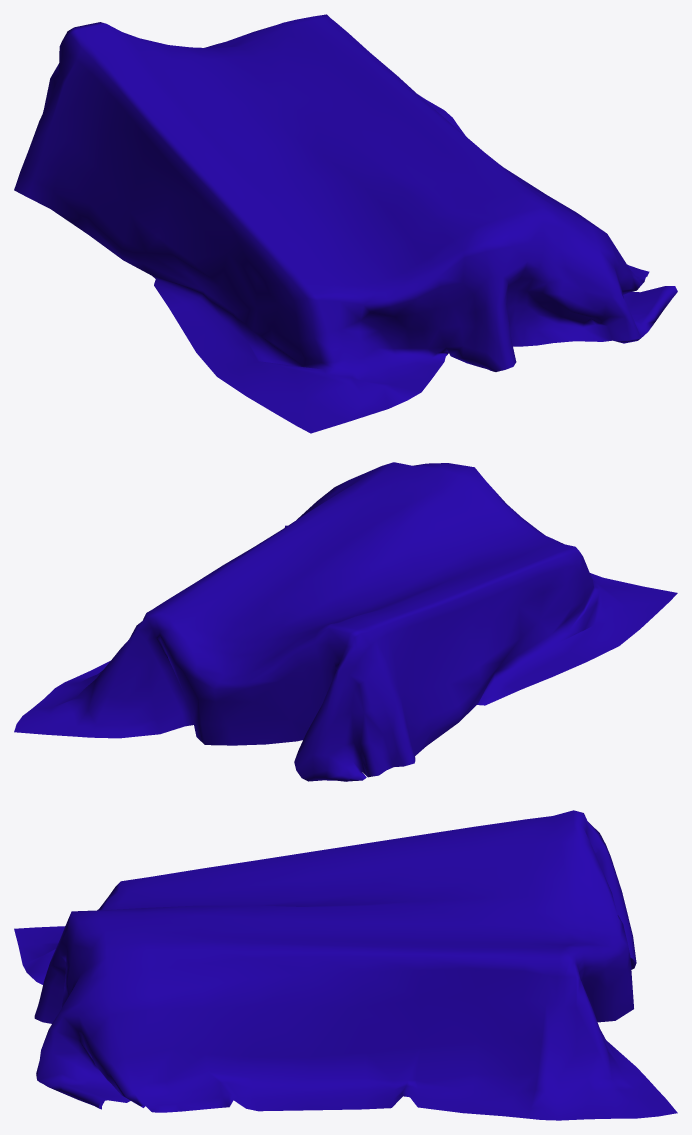
The model's file is Cloth_02.FBX.
The picture shows the model from 3 angles, top to bottom: view 1: azimuth 30°, elevation 25°; view 2: azimuth 150°, elevation 25°; view 3: azimuth 270°, elevation 25°; orthographic projection. The views are drawn at different scales.
Parts seen in each view (by area): view 1: SM_ClothC_01_LOD0; view 2: SM_ClothC_01_LOD0; view 3: SM_ClothC_01_LOD0.
Boxes of the visible parts, left/top/right/bottom form: SM_ClothC_01_LOD0: left=14, top=14, right=677, bottom=433; SM_ClothC_01_LOD0: left=14, top=462, right=677, bottom=781; SM_ClothC_01_LOD0: left=14, top=810, right=677, bottom=1120.
Bounding box in the file's own units: 166 × 58.92 × 235.
